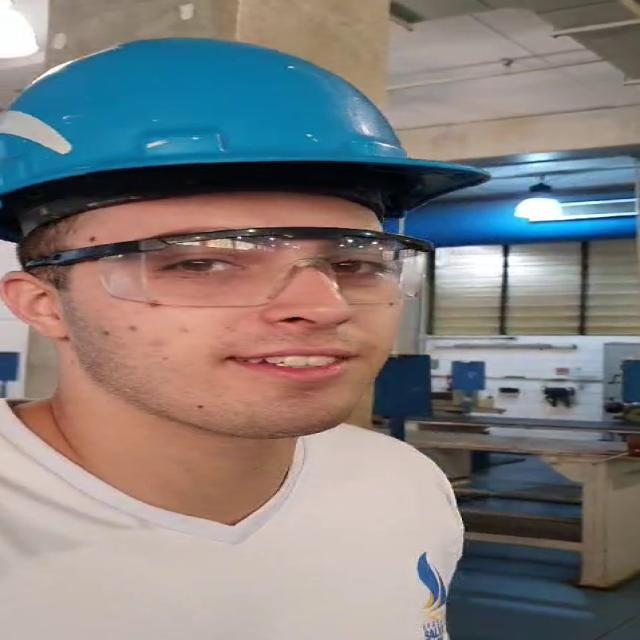oculos-epi: (29, 227, 428, 307)
